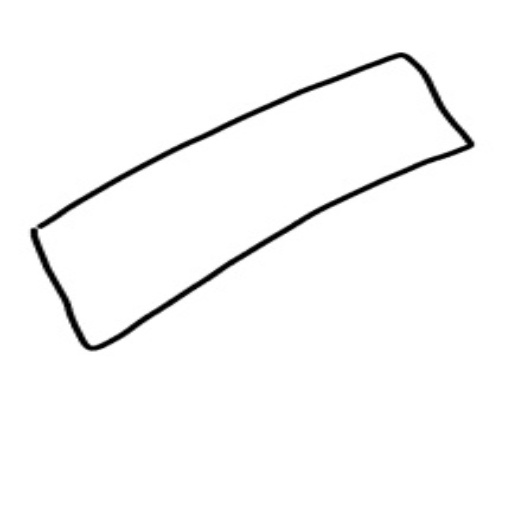rectangle: (22, 48, 485, 357)
